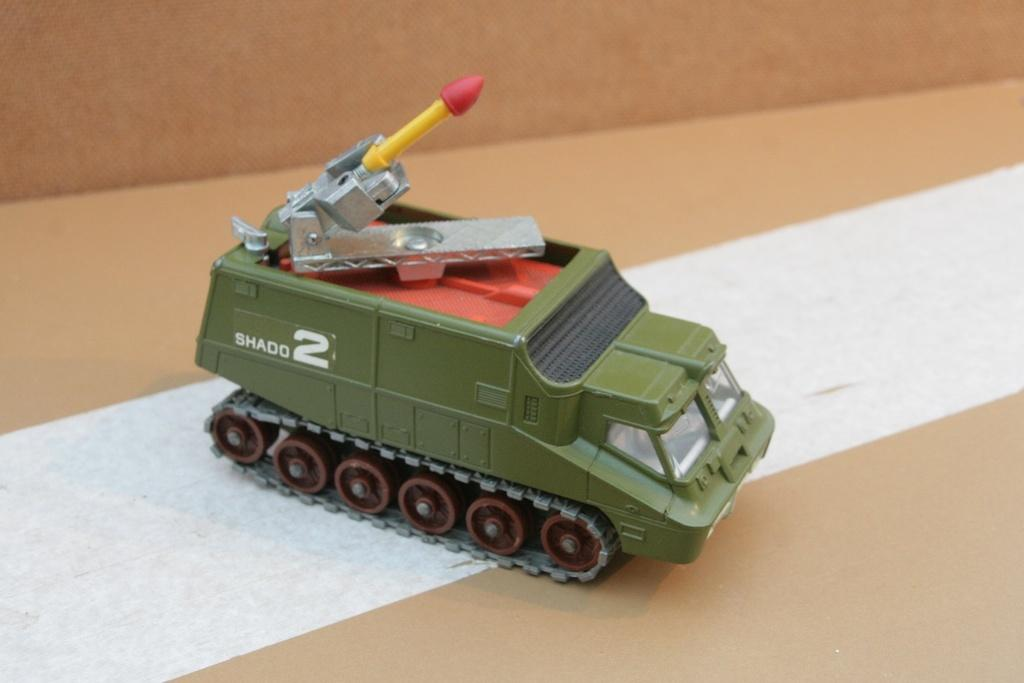Tank: (191, 70, 776, 584)
